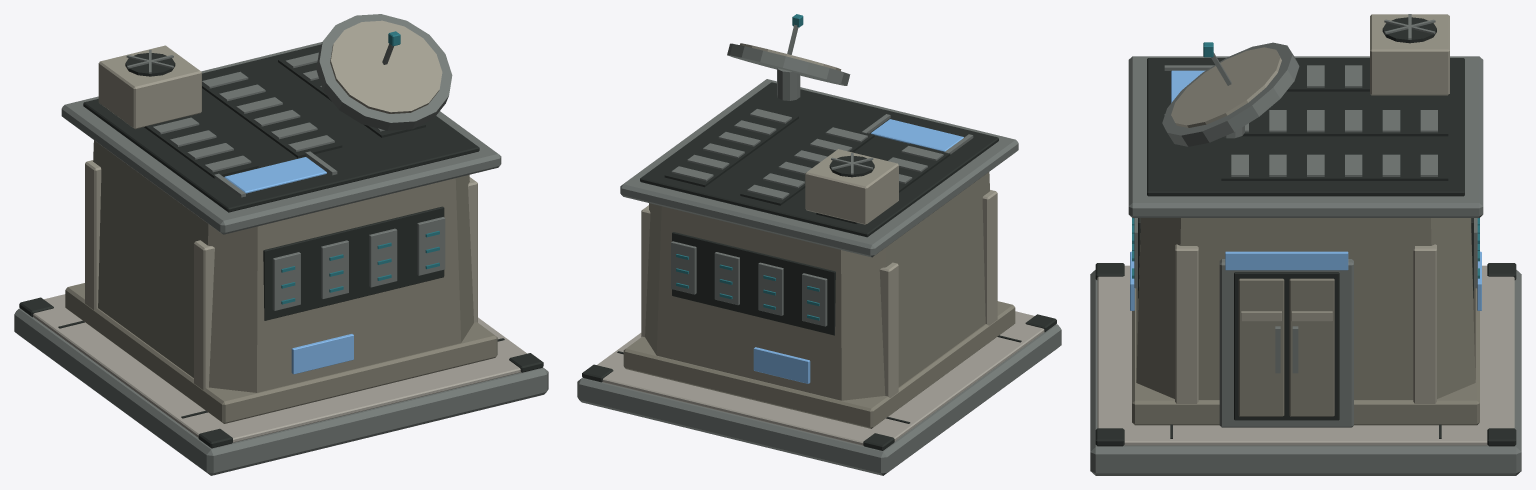
File: cyber_center.glb
The picture shows the model from 3 angles, left to right: view 1: azimuth 30°, elevation 25°; view 2: azimuth 150°, elevation 25°; view 3: azimuth 270°, elevation 25°; orthographic projection. The views are drawn at different scales.
Parts seen in each view (by area): view 1: cyber_center; view 2: cyber_center; view 3: cyber_center.
Part boxes in pixels (<box>): cyber_center: <box>14,14,548,475</box>; cyber_center: <box>577,14,1061,475</box>; cyber_center: <box>1090,14,1521,475</box>.
Size of the model in its own units: 2.7 by 2.62 by 2.7.
